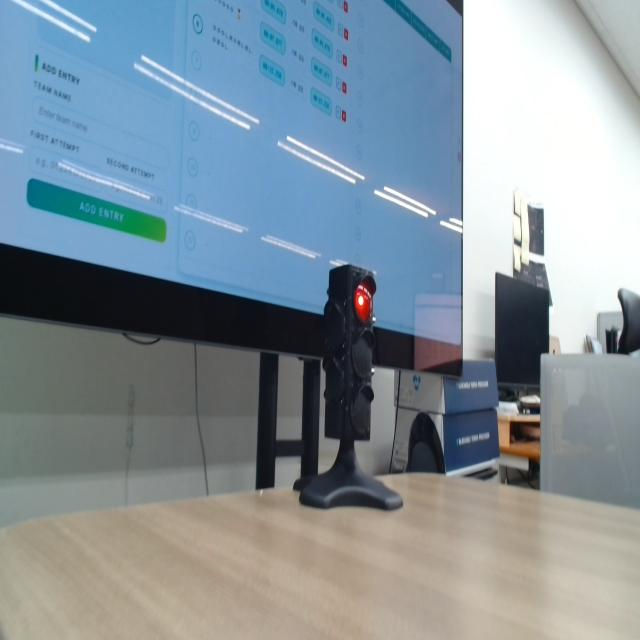red_light: (354, 284, 372, 323)
